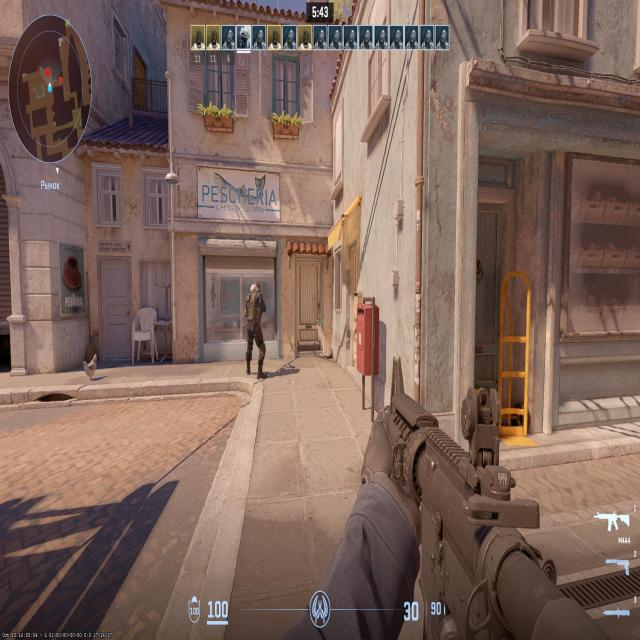CT: (247, 280, 264, 384)
CT_heat: (256, 278, 261, 296)
